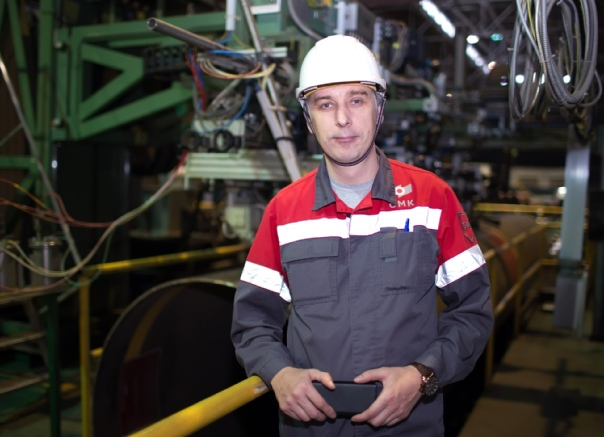person: (230, 35, 495, 437)
